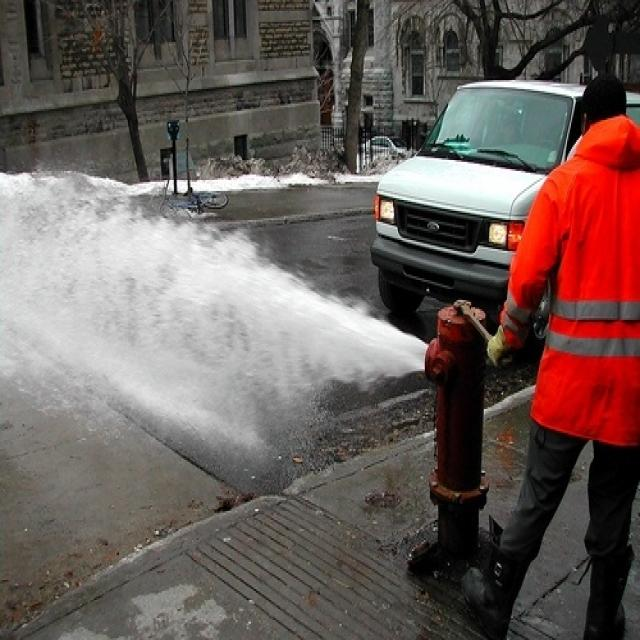fire_hydrant: (390, 261, 554, 575)
